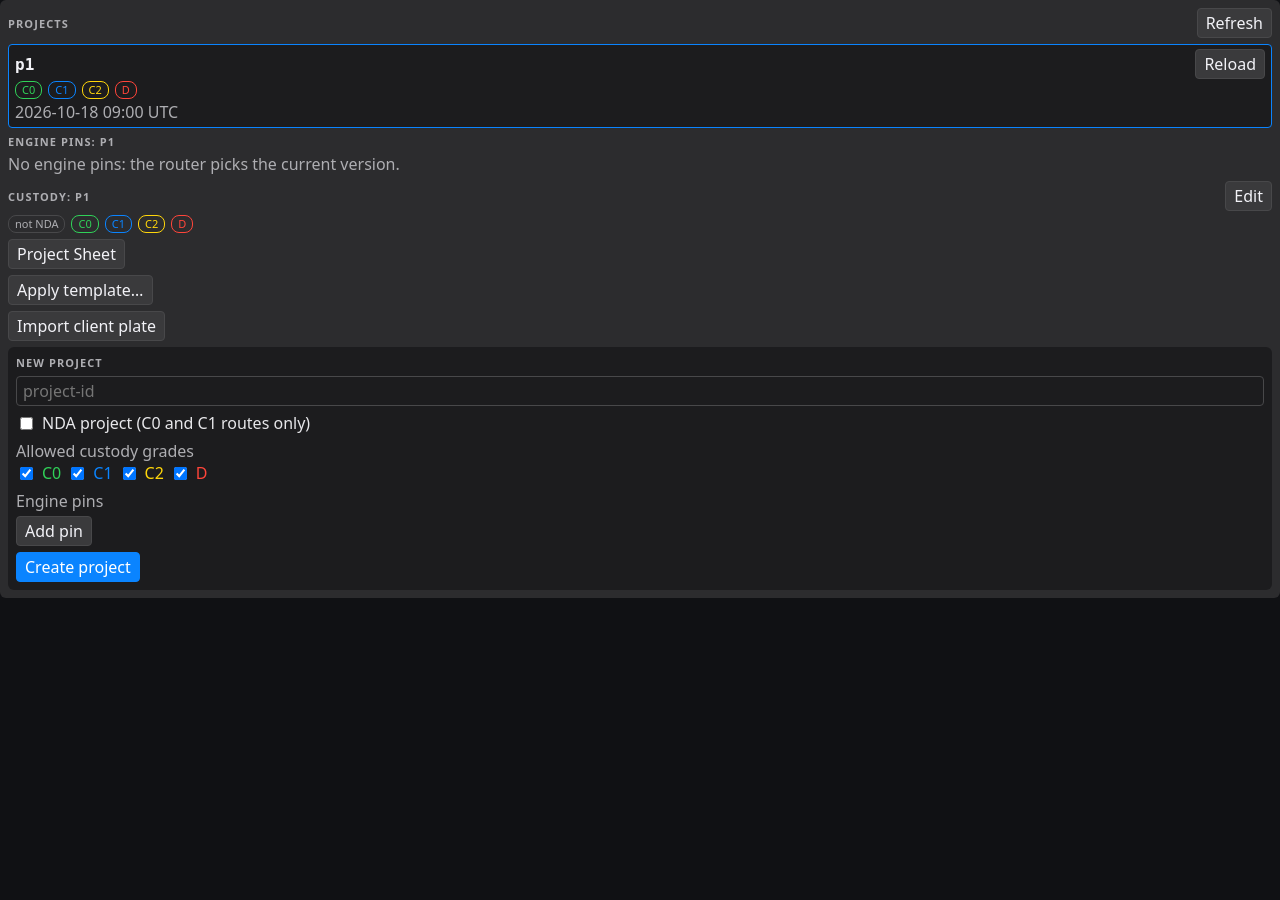
import a client plate › shows a pixels-worker outage inline
Expected: the element with test id "custody-row" is shown, [8,181,1272,233]
Click the button "Import client plate" at (86, 326), box [8,311,165,341]
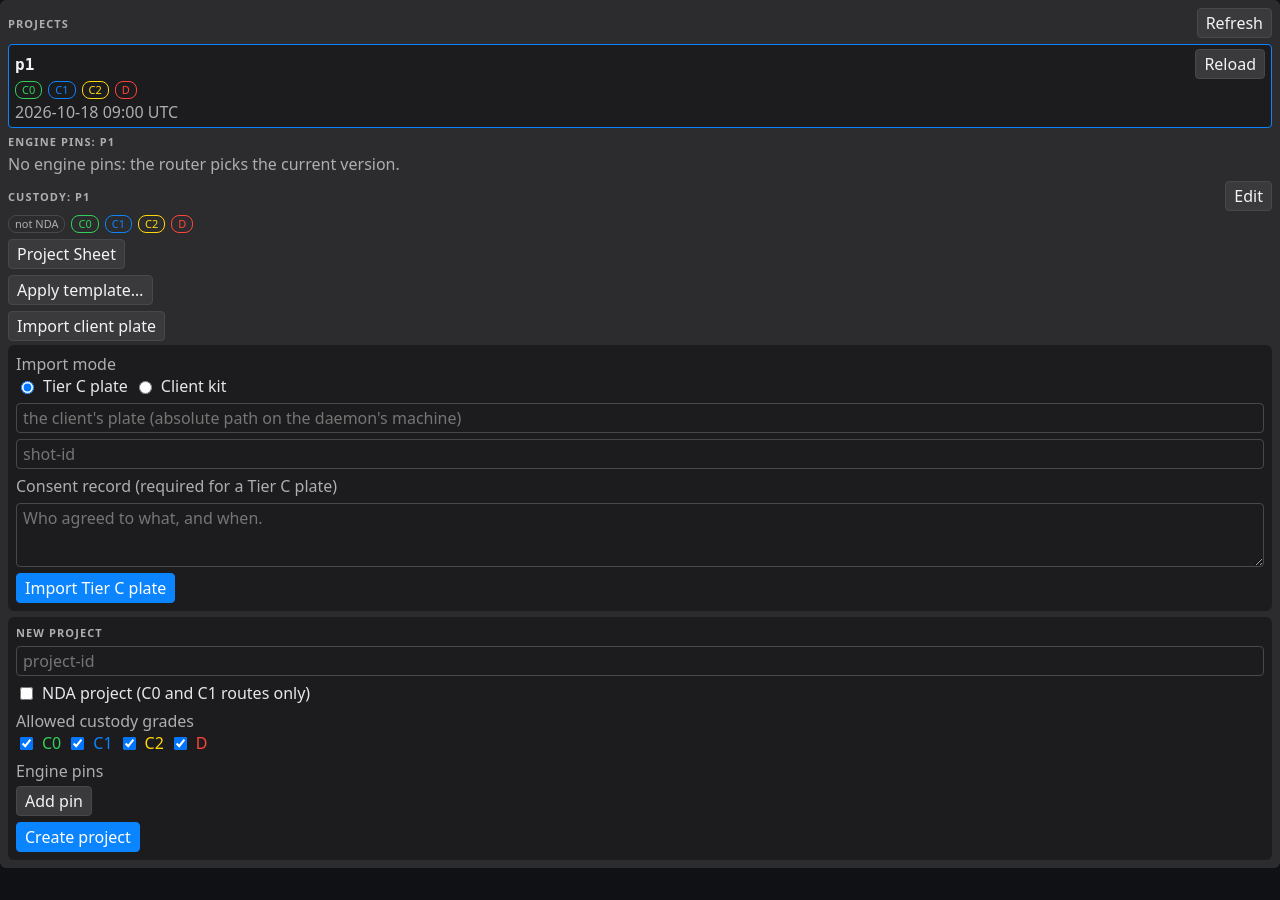
Type "/clients/tula/plate.png" into the field named "Plate path" at (640, 418), box [16,403,1264,433]
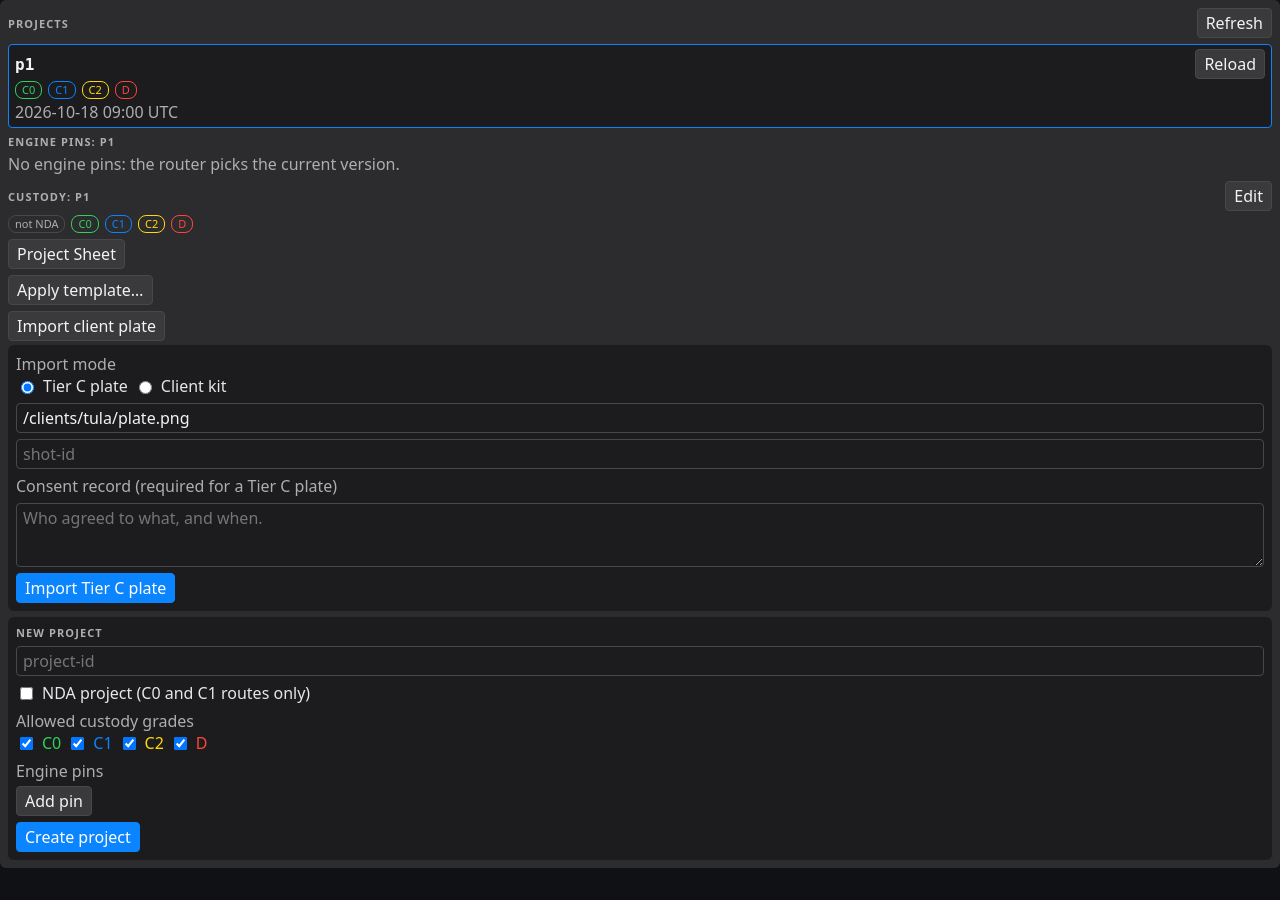
Type "s01" into the field named "Shot id" at (640, 454), box [16,439,1264,469]
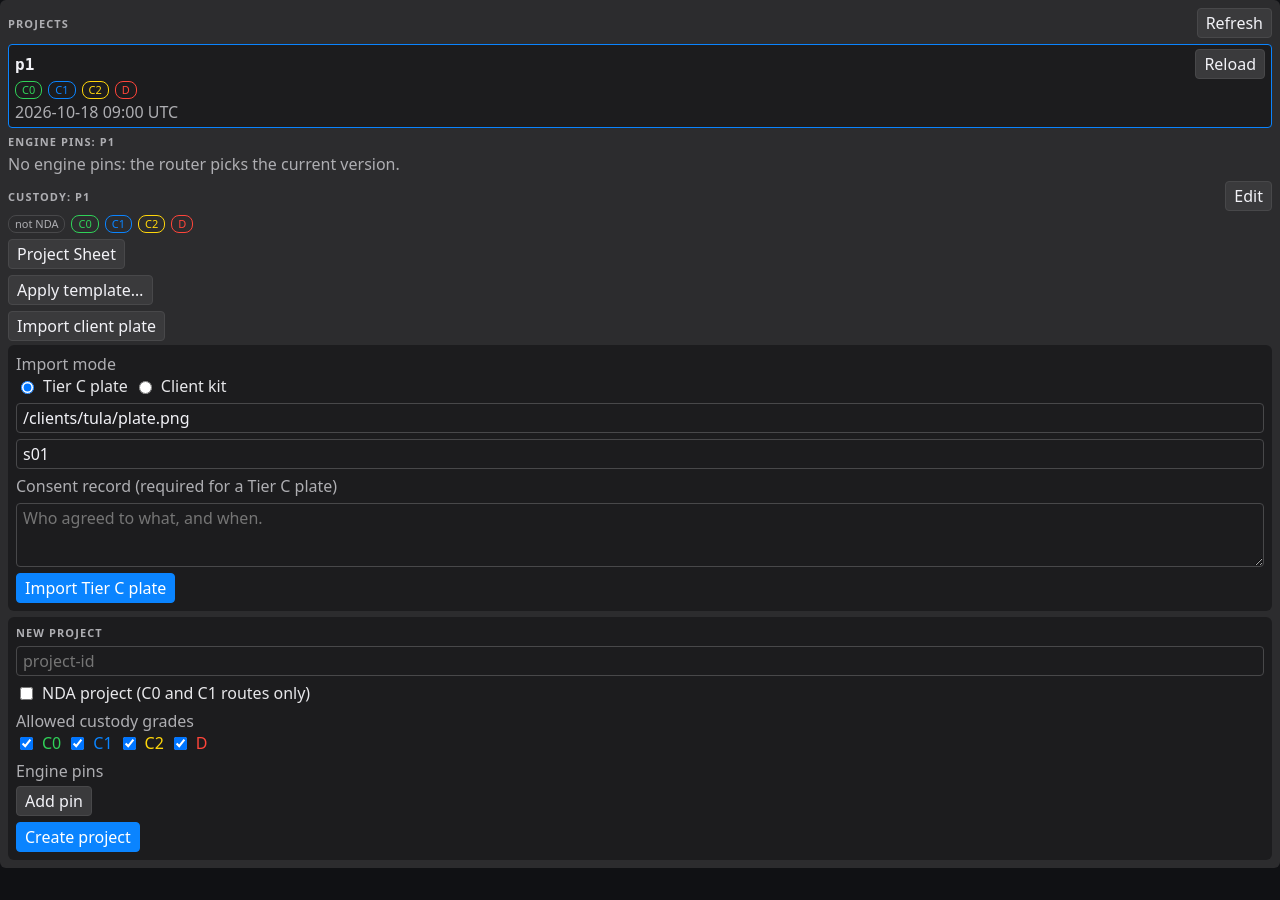
Type "a record" into the text box named "Consent record" at (640, 535), box [16,503,1264,567]
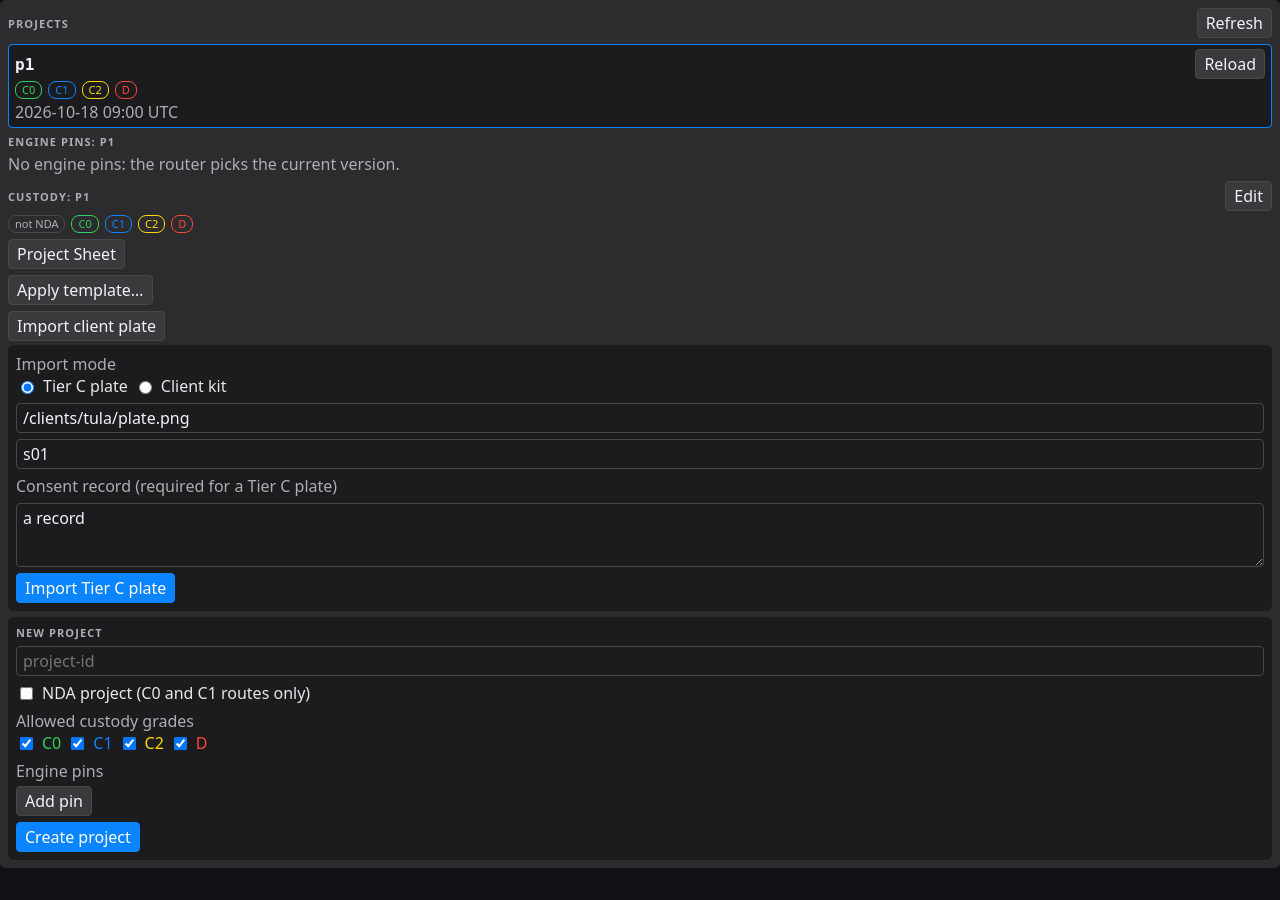
Click the button "Import Tier C plate" at (96, 588), box [16,573,175,603]
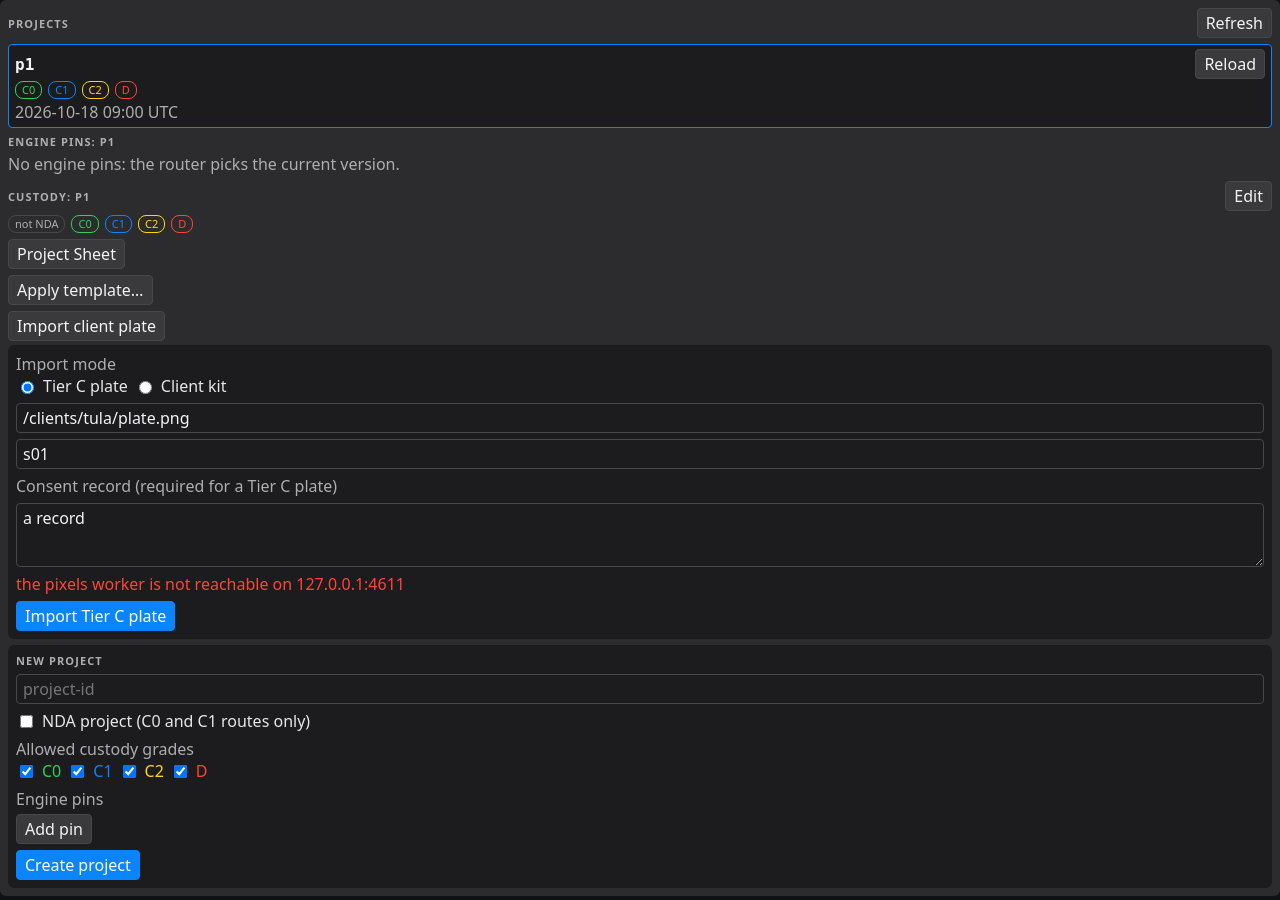
Expected: the message shows "the pixels worker is not reachable", [16,573,405,595]
